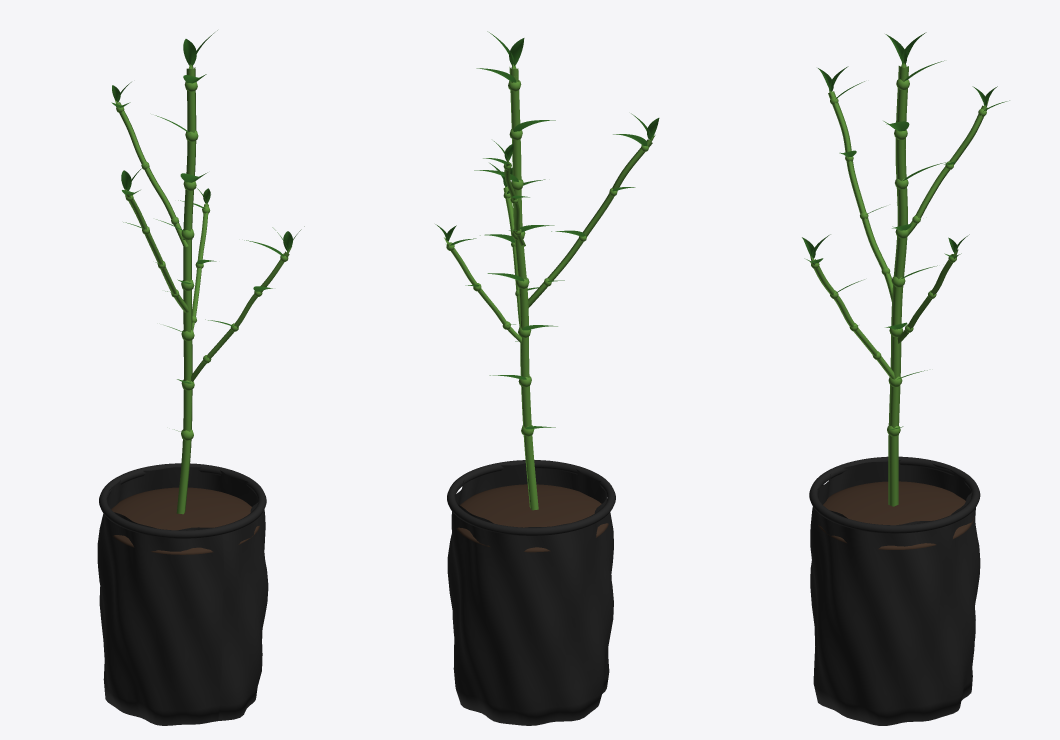
The model's file is sambiloto.glb.
3 renders of one model, left to right at view 1: azimuth 30°, elevation 25°; view 2: azimuth 150°, elevation 25°; view 3: azimuth 270°, elevation 25°, orthographic. The views are drawn at different scales.
Visible parts, largest first — view 1: polybag, soil, main_stem, polybag_lip, branch_3_stem, branch_2_stem, branch_1_stem, branch_4_stem; view 2: polybag, soil, polybag_lip, main_stem, branch_2_stem, branch_4_stem; view 3: polybag, soil, main_stem, polybag_lip, branch_2_stem, branch_3_stem, branch_1_stem, branch_4_stem.
Boxes of the visible parts, x1,y1,x2,y2 form: polybag: (97,467,268,725); soil: (111,487,259,554); main_stem: (176,67,196,514); polybag_lip: (99,463,266,538); branch_3_stem: (116,102,188,247); branch_2_stem: (125,191,188,312); branch_1_stem: (191,251,289,381); branch_4_stem: (192,204,208,330); polybag: (447,463,613,725); soil: (456,484,608,552); polybag_lip: (447,460,615,535); main_stem: (509,67,538,510); branch_2_stem: (527,139,652,307); branch_4_stem: (446,242,522,344); polybag: (810,459,980,725); soil: (818,481,974,549); main_stem: (888,66,908,506); polybag_lip: (809,456,980,533); branch_2_stem: (828,91,892,301); branch_3_stem: (907,105,987,236); branch_1_stem: (810,259,894,379); branch_4_stem: (897,254,957,343).
Bounding box in the file's own units: 0.2348 × 0.5052 × 0.2136.
